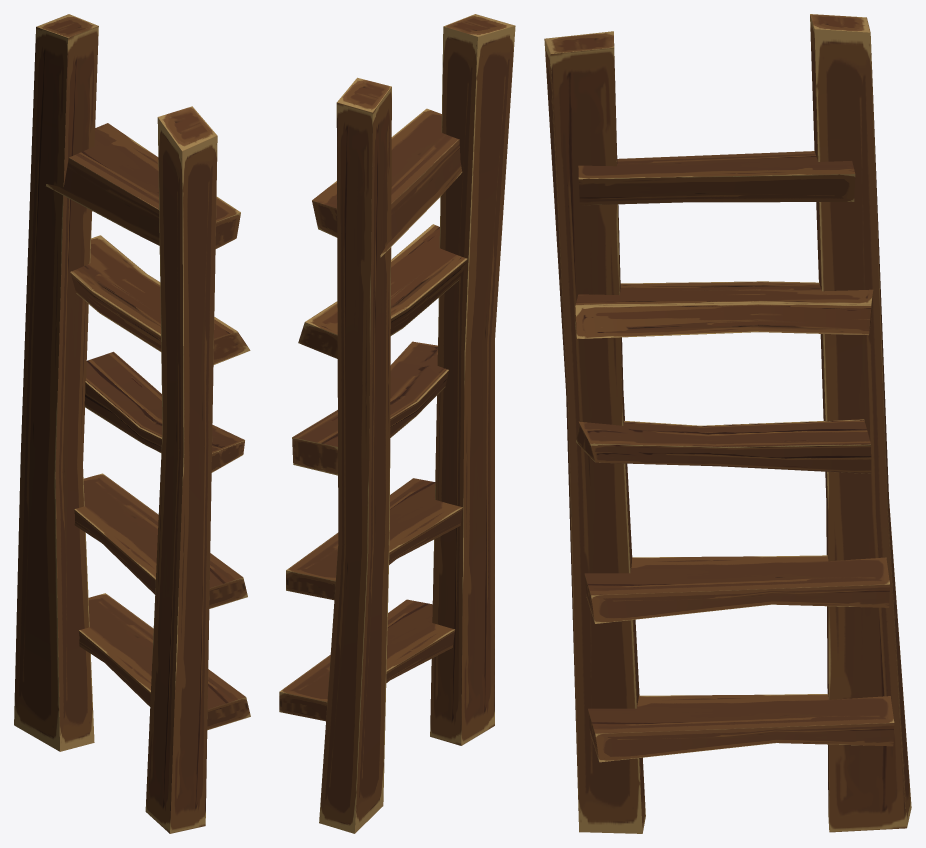
The model's file is SM_PROP_ladder_interior_01.fbx.
3 views of the same model, side by side, from view 1: azimuth 30°, elevation 25°; view 2: azimuth 150°, elevation 25°; view 3: azimuth 270°, elevation 25° (orthographic). The views are drawn at different scales.
Parts seen in each view (by area): view 1: SM_PROP_ladder_interior_01; view 2: SM_PROP_ladder_interior_01; view 3: SM_PROP_ladder_interior_01.
Boxes of the visible parts, box(x1,y1,x2,y2) form: SM_PROP_ladder_interior_01: box(14, 14, 250, 833); SM_PROP_ladder_interior_01: box(279, 14, 515, 833); SM_PROP_ladder_interior_01: box(544, 14, 911, 833).
Size of the model in its own units: 24.71 by 171 by 70.89.
